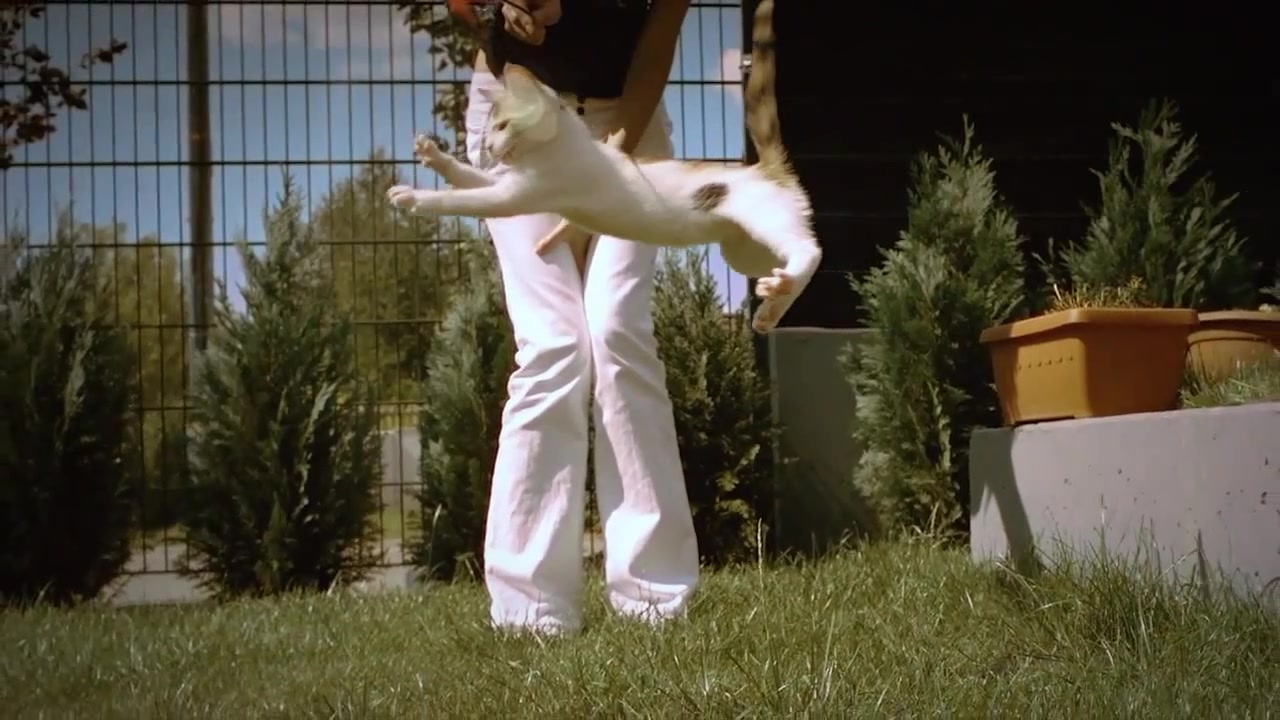cat: (383, 4, 825, 333)
